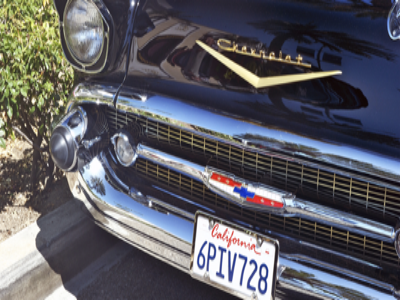licence: (195, 214, 274, 300)
